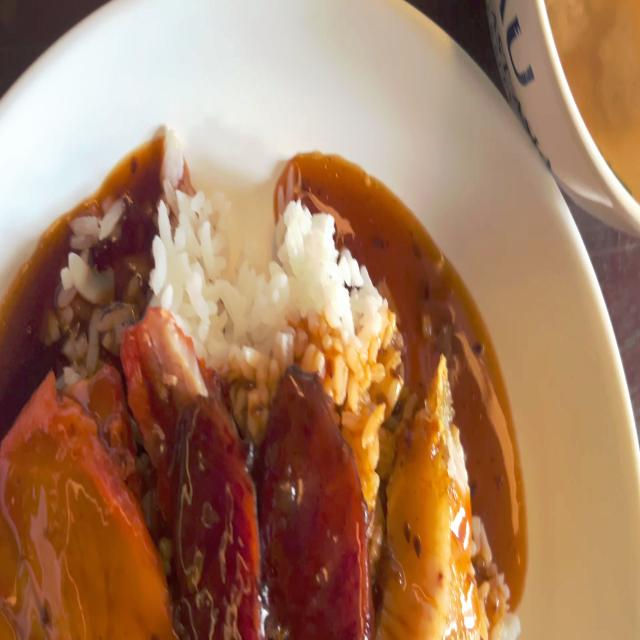chainese_sausage: (153, 376, 376, 636), (263, 378, 383, 640), (175, 384, 253, 640)
crispy_pork: (394, 362, 484, 640)
red_pork: (0, 379, 169, 640), (117, 311, 193, 455), (68, 360, 146, 495)
red_pork_and_crispy_pork: (0, 150, 530, 639)
rice: (54, 168, 415, 357)
